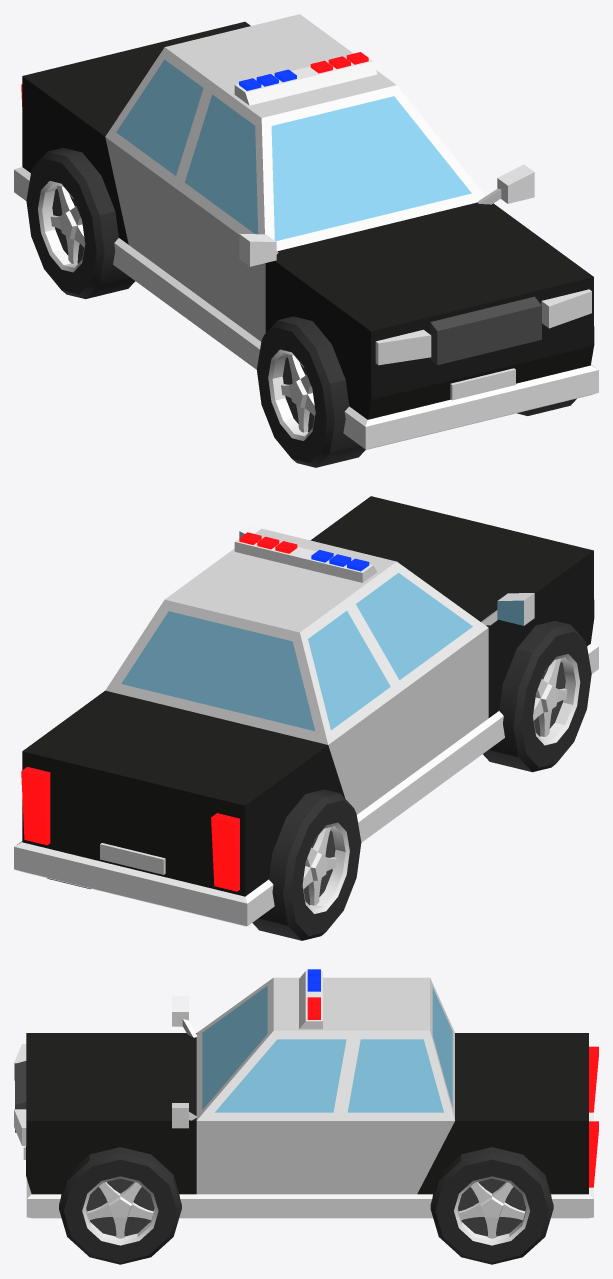
Rendered from Car4.fbx.
3 renders of one model, top to bottom at view 1: azimuth 30°, elevation 25°; view 2: azimuth 150°, elevation 25°; view 3: azimuth 270°, elevation 25°, orthographic. The views are drawn at different scales.
Visible parts, largest first — view 1: body.004, body.005, body.003; view 2: body.004, body.005, body.003; view 3: body.004, body.002, body.001.
Boxes of the visible parts, <box> form: body.004: <box>14,14,598,449</box>; body.005: <box>26,147,135,299</box>; body.003: <box>256,316,365,467</box>; body.004: <box>14,496,598,926</box>; body.005: <box>252,789,361,940</box>; body.003: <box>483,621,591,772</box>; body.004: <box>14,969,598,1218</box>; body.002: <box>430,1147,553,1264</box>; body.001: <box>59,1147,181,1264</box>.
Bounding box in the file's own units: 545 × 502 × 1201.
